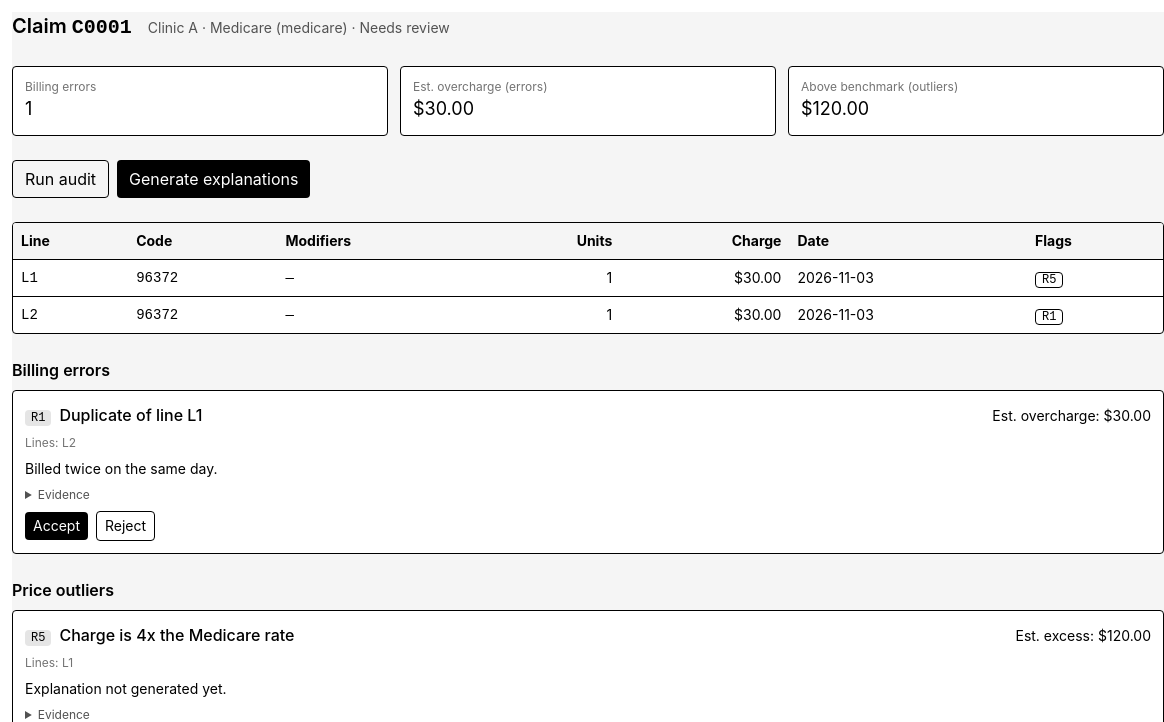
Test: a stream that ends without done is reported
Click the button "Generate explanations".
click(214, 179)  # box x1=117 y1=160 x2=310 y2=198
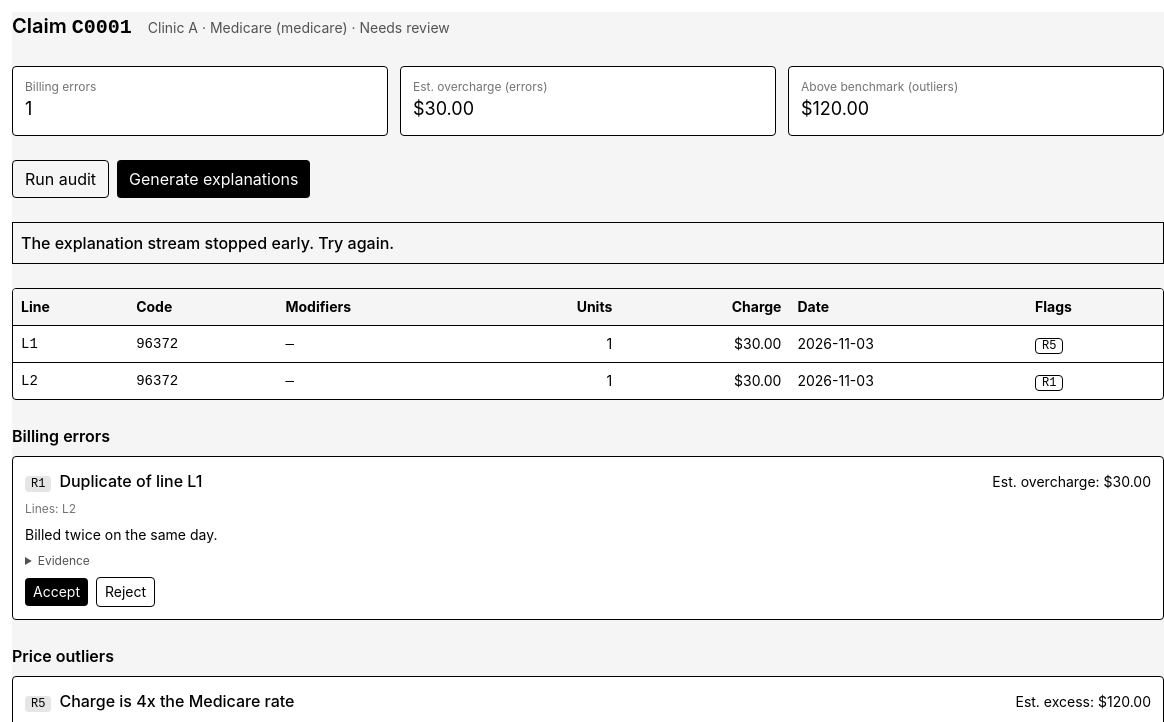
Expected: the message shows "stopped early", x1=21 y1=233 x2=394 y2=253
